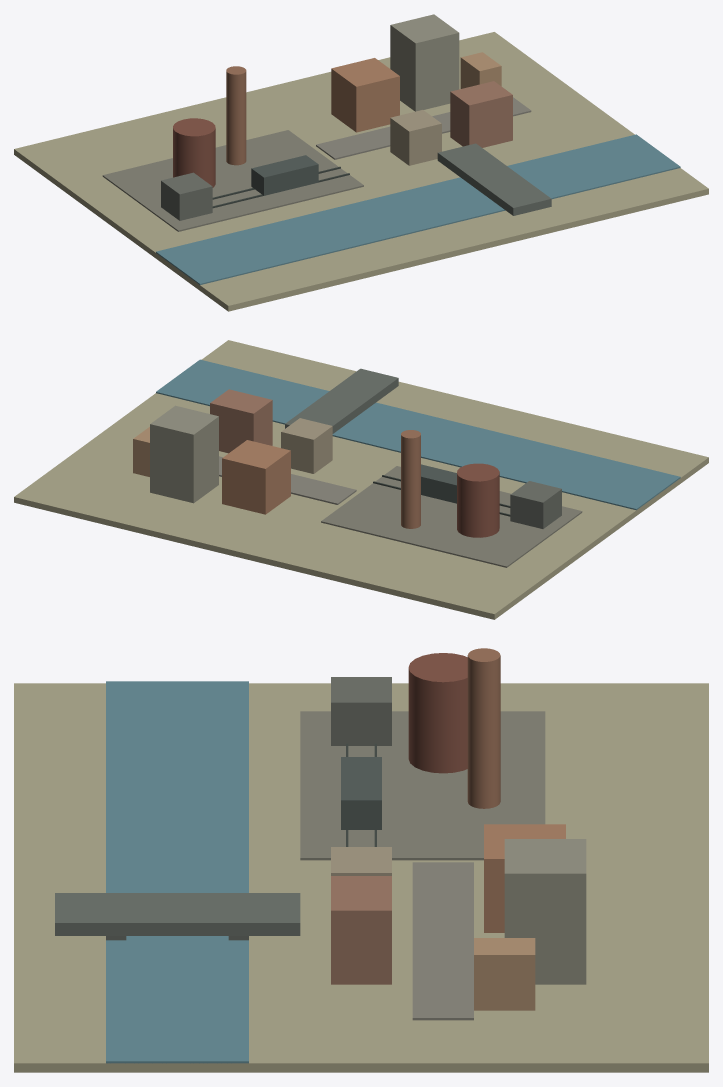
Rendered from pipeline-fixture.glb.
3 views of the same model, one above another, from view 1: azimuth 30°, elevation 25°; view 2: azimuth 150°, elevation 25°; view 3: azimuth 270°, elevation 25° (orthographic). The views are drawn at different scales.
Parts seen in each view (by area): view 1: ground-surface-0, river-surface-0, mill-yard-surface-0, downtown-2-surface-0, warehouse-surface-0, bridge-surface-0, downtown-5-surface-0, downtown-4-surface-0, stack-surface-0, mill-shed-surface-0, rail-car-surface-0, furnace-surface-1 (+3 smaller); view 2: ground-surface-0, river-surface-0, mill-yard-surface-0, downtown-2-surface-0, warehouse-surface-0, bridge-surface-0, downtown-5-surface-0, downtown-4-surface-0, mill-shed-surface-0, stack-surface-0, furnace-surface-1, street-surface-0 (+3 smaller); view 3: ground-surface-0, river-surface-0, mill-yard-surface-0, downtown-2-surface-0, bridge-surface-0, street-surface-0, downtown-5-surface-0, stack-surface-0, downtown-3-surface-0, furnace-surface-1, mill-shed-surface-0, warehouse-surface-0 (+3 smaller).
Part boxes in pixels (box(x1,y1,x2,y2)): ground-surface-0: box(14, 32, 708, 311); river-surface-0: box(156, 134, 680, 284); mill-yard-surface-0: box(102, 130, 363, 231); downtown-2-surface-0: box(390, 14, 459, 111); warehouse-surface-0: box(331, 58, 399, 132); bridge-surface-0: box(437, 143, 551, 215); downtown-5-surface-0: box(450, 81, 512, 147); downtown-4-surface-0: box(390, 110, 441, 165); stack-surface-0: box(226, 66, 246, 165); mill-shed-surface-0: box(161, 172, 212, 220); rail-car-surface-0: box(251, 155, 318, 195); furnace-surface-1: box(173, 118, 215, 164); ground-surface-0: box(14, 340, 708, 619); river-surface-0: box(156, 359, 680, 510); mill-yard-surface-0: box(321, 466, 582, 567); downtown-2-surface-0: box(150, 405, 218, 503); warehouse-surface-0: box(222, 440, 290, 514); bridge-surface-0: box(285, 368, 398, 433); downtown-5-surface-0: box(210, 389, 272, 453); downtown-4-surface-0: box(281, 418, 332, 473); mill-shed-surface-0: box(510, 481, 561, 528); stack-surface-0: box(401, 430, 420, 528); furnace-surface-1: box(457, 463, 499, 509); street-surface-0: box(219, 456, 356, 504); ground-surface-0: box(14, 683, 708, 1072); river-surface-0: box(106, 681, 248, 1063); mill-yard-surface-0: box(300, 711, 545, 860); downtown-2-surface-0: box(504, 839, 586, 984); bridge-surface-0: box(55, 893, 300, 935); street-surface-0: box(412, 862, 473, 1020); downtown-5-surface-0: box(331, 876, 391, 984); stack-surface-0: box(467, 648, 500, 808); downtown-3-surface-0: box(474, 938, 535, 1010); furnace-surface-1: box(408, 653, 467, 728); mill-shed-surface-0: box(331, 677, 391, 745); warehouse-surface-0: box(484, 824, 565, 932).
Size of the model in its own units: 44 by 8.55 by 34.
